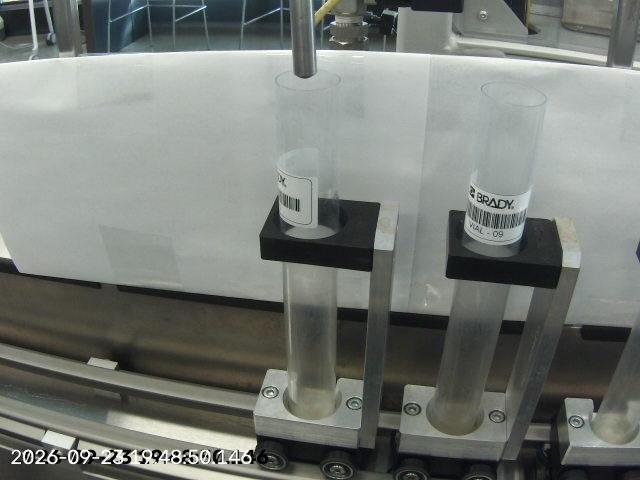vial: (421, 68, 563, 438), (259, 67, 367, 418)
